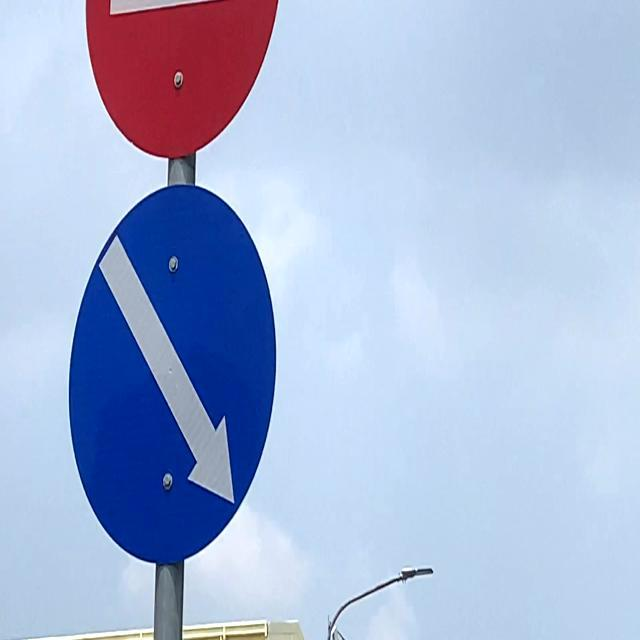Vong chuong ngai vat sang phai: (61, 170, 286, 578)
